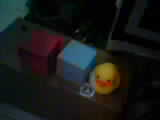duck: (92, 55, 116, 93)
